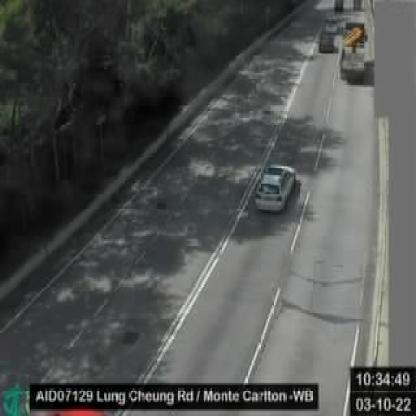Car: (254, 163, 295, 210)
Truck: (340, 19, 366, 78)
